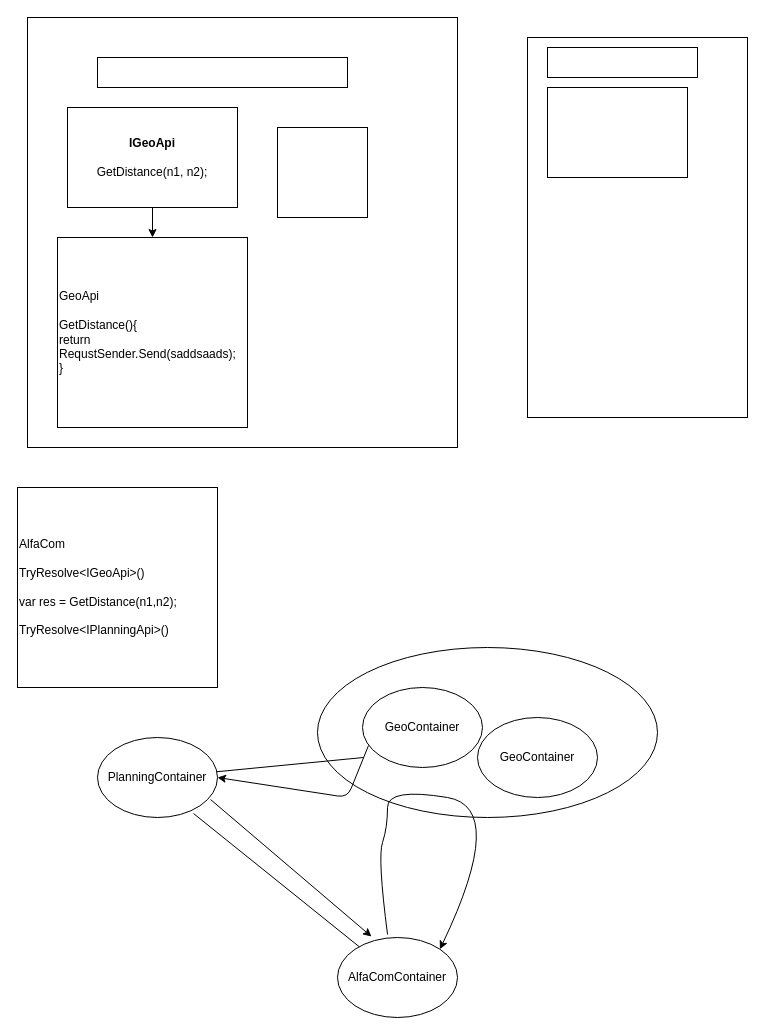
Some shapes in this 765 by 1035 pixel diagram are drawn without their labels. The shapes that lost their labels are listed below. From the top down, each one's centre as x and y in pixels, then its label:
At pixel 222 72: "AlfaGeoCommons".
At pixel 622 62: "AlfaPlanningCommons".
At pixel 617 132: "IPlanningAp i GetPlan(long jobId) GetBookingSolution()".
At pixel 322 172: "internal GetDistance : CoreRequets".
